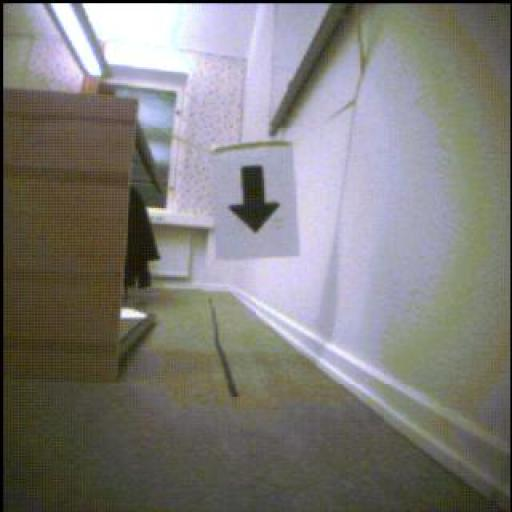arrow: (230, 167, 279, 233)
